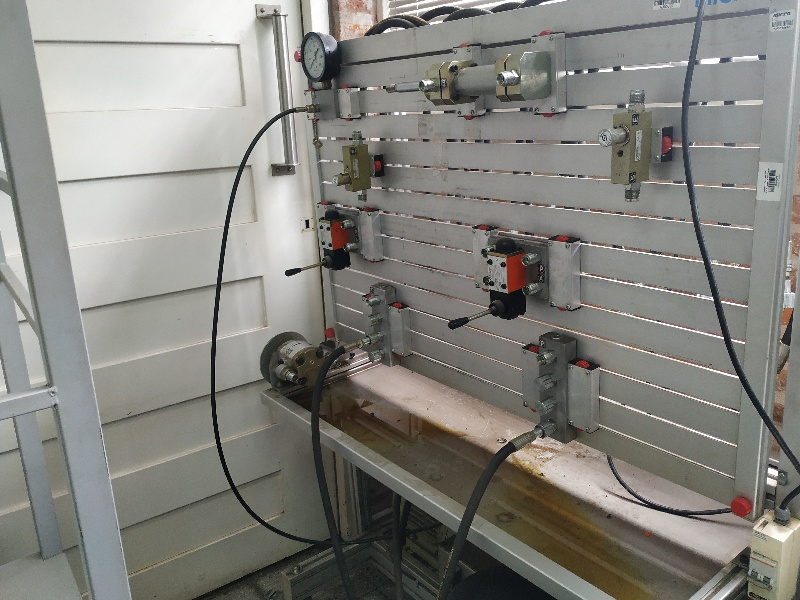Tablero 1: (301, 27, 775, 483)
